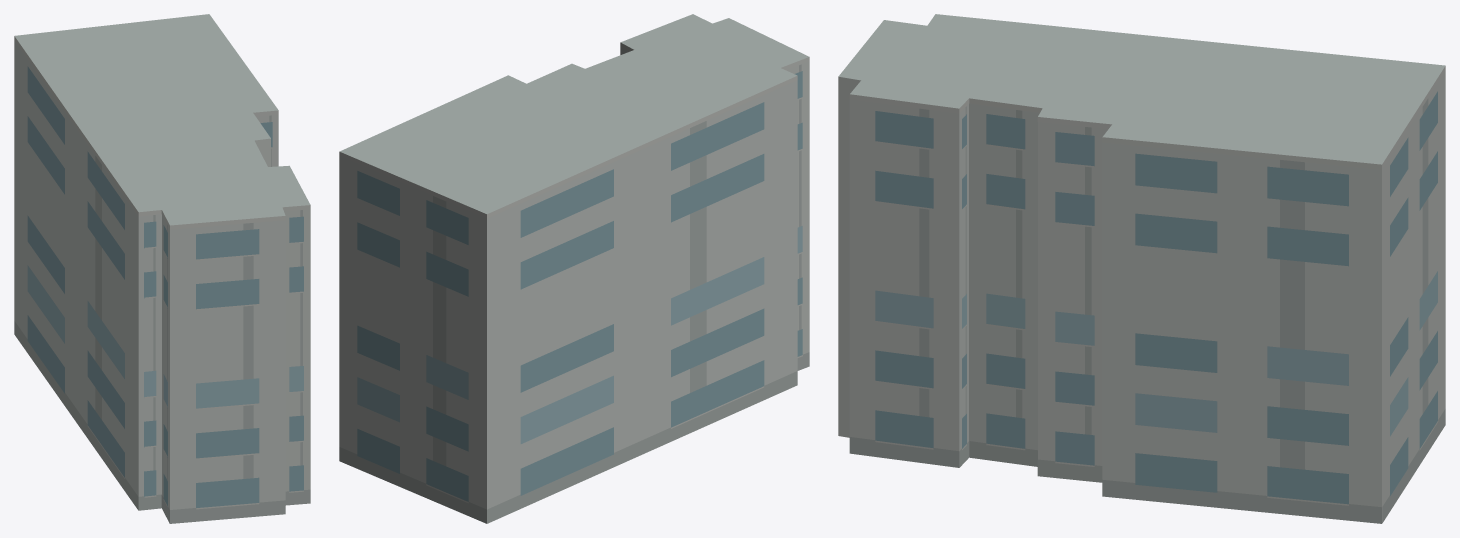
The model's file is survey-upis-32800416.glb.
3 views of the same model, side by side, from view 1: azimuth 30°, elevation 25°; view 2: azimuth 150°, elevation 25°; view 3: azimuth 270°, elevation 25° (orthographic). The views are drawn at different scales.
Parts seen in each view (by area): view 1: survey-upis-32800416.tmp; view 2: survey-upis-32800416.tmp; view 3: survey-upis-32800416.tmp.
Part boxes in pixels (bbox=[...]): survey-upis-32800416.tmp: bbox=[14, 14, 310, 523]; survey-upis-32800416.tmp: bbox=[339, 14, 809, 523]; survey-upis-32800416.tmp: bbox=[838, 14, 1445, 523].
Size of the model in its own units: 15.11 by 16.8 by 25.75.
